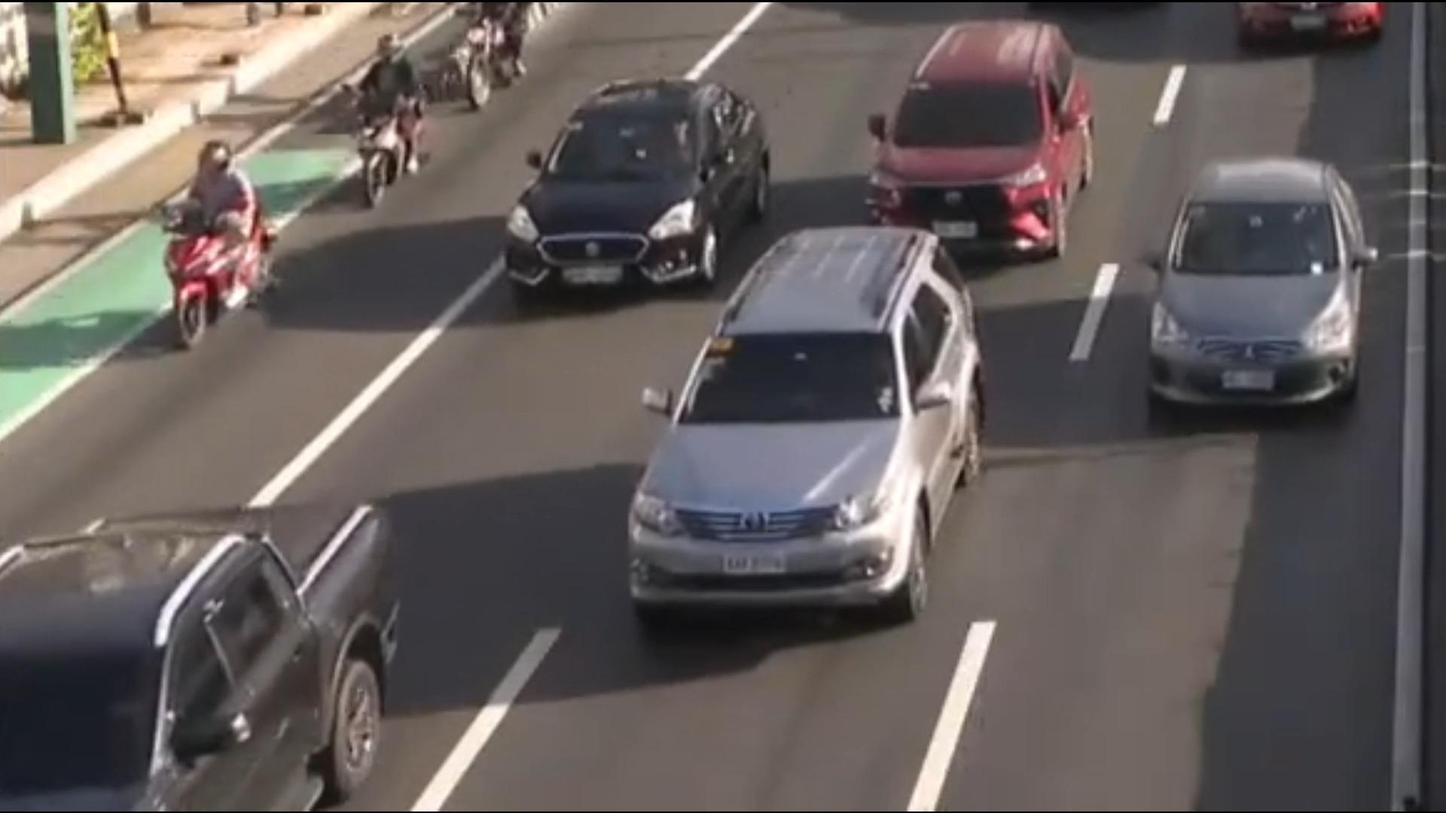Motorcycle: (137, 121, 309, 368), (326, 17, 445, 211), (436, 0, 558, 116)
Pickup: (0, 456, 420, 813)
SUV: (584, 211, 1043, 667), (858, 14, 1115, 288)
Sedan: (1122, 143, 1394, 438), (489, 68, 784, 307)
